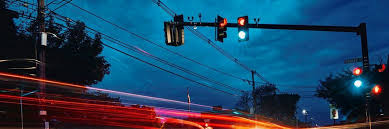signal: (351, 66, 366, 93), (236, 15, 249, 41), (216, 17, 228, 42), (371, 79, 385, 100)
